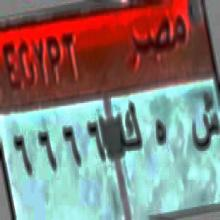6: (60, 116, 82, 174), (11, 127, 33, 182), (37, 124, 57, 182), (87, 118, 105, 166)
haa: (152, 115, 168, 156)
kaaf: (116, 99, 141, 163)
sheen: (191, 94, 220, 160)
